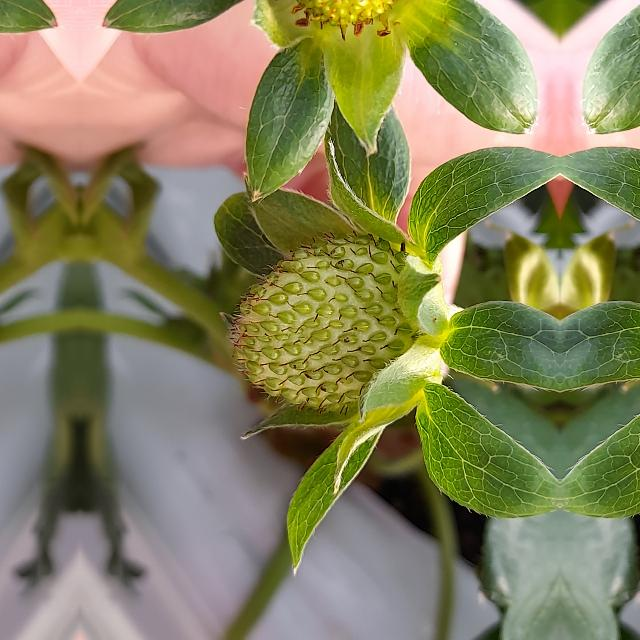Health_25: (222, 230, 422, 416)
